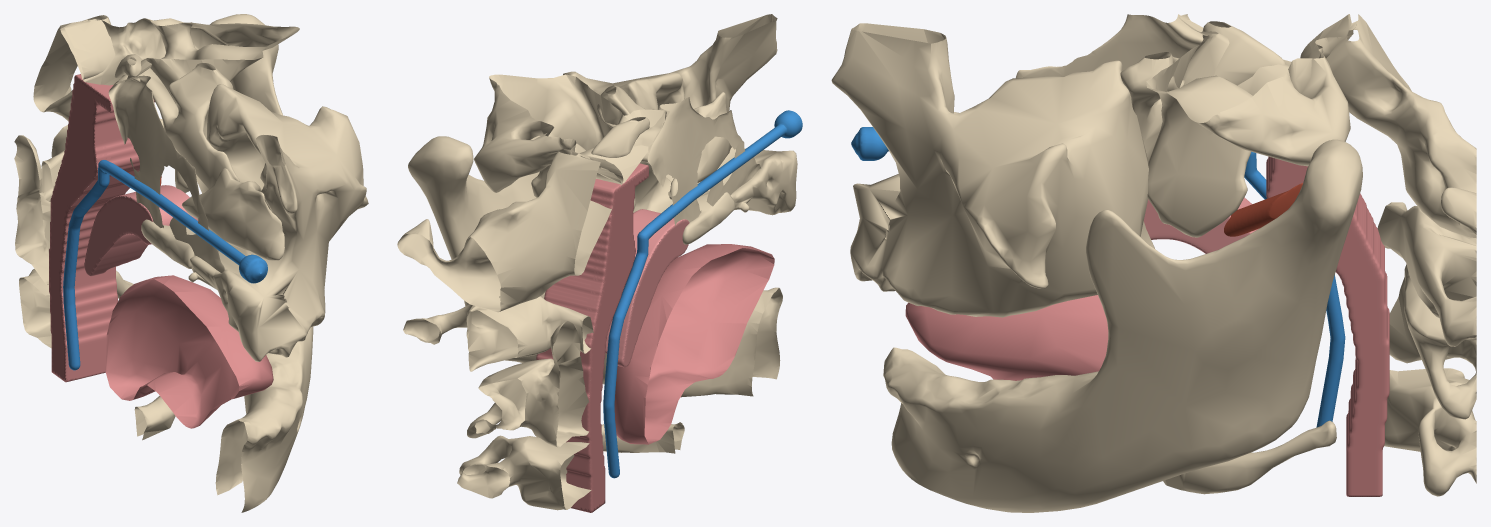
Rendered from rest-cut.glb.
The picture shows the model from 3 angles, left to right: view 1: azimuth 30°, elevation 25°; view 2: azimuth 150°, elevation 25°; view 3: azimuth 270°, elevation 25°; orthographic projection. The views are drawn at different scales.
Parts seen in each view (by area): view 1: bone (×11), tongue, mucosa, air, soft; view 2: bone (×11), tongue, mucosa, air, soft; view 3: bone (×10), mucosa, tongue, air, soft, muscle.
Part boxes in pixels (left/top/right/bottom): bone (×11): left=14, top=14, right=368, bottom=512; tongue: left=105, top=275, right=273, bottom=428; mucosa: left=49, top=74, right=154, bottom=382; air: left=63, top=160, right=267, bottom=370; soft: left=84, top=185, right=198, bottom=276; bone (×11): left=397, top=14, right=797, bottom=510; tongue: left=614, top=244, right=774, bottom=444; mucosa: left=536, top=163, right=648, bottom=512; air: left=603, top=110, right=802, bottom=478; soft: left=605, top=209, right=689, bottom=367; bone (×10): left=831, top=14, right=1476, bottom=512; mucosa: left=1266, top=156, right=1389, bottom=496; tongue: left=905, top=295, right=1108, bottom=380; air: left=851, top=127, right=1345, bottom=427; soft: left=1143, top=197, right=1258, bottom=253; muscle: left=1224, top=183, right=1302, bottom=236.
Size of the model in its own units: 55.62 by 87 by 113.
